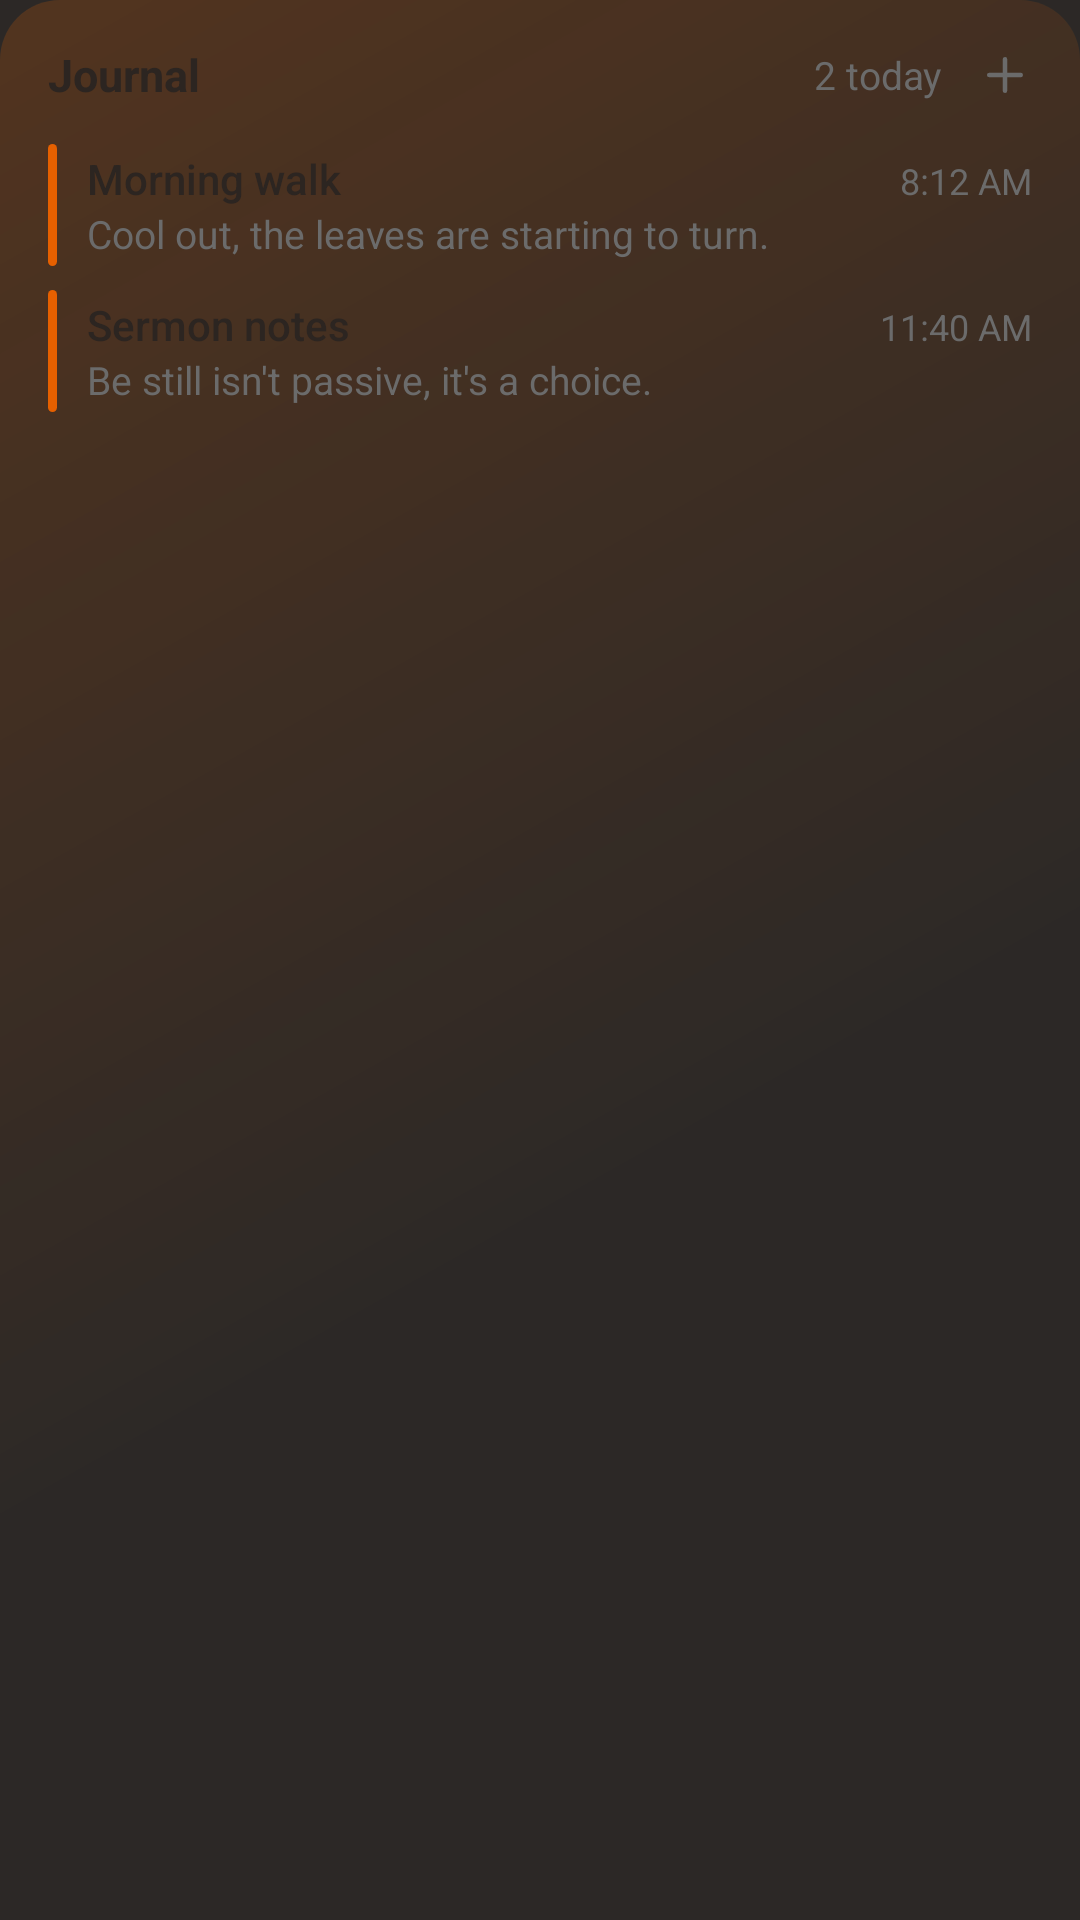

Icon click points for this 1080w x 1920h phone screenshot, format [x,y]:
plus: [1005,75]
